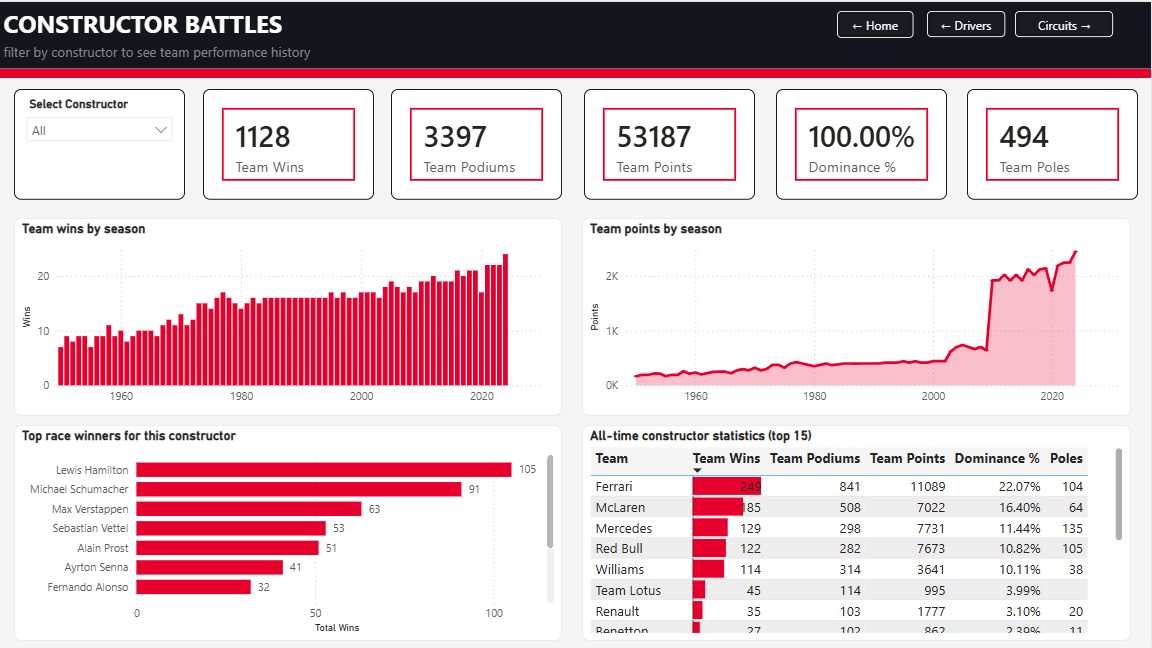

The dashboard page shown, as its layout file describes it:
{"tool":"powerbi","page":{"name":"Constructors","canvas":[1280,720],"ordinal":2},"visuals":[{"type":"shape","box":[0,74,1280,10],"z":0},{"type":"textbox","box":[0,0,1280,46.7],"z":1000},{"type":"textbox","box":[0,39.9,1280,34],"z":2000},{"type":"cardVisual","fields":{"Data":["_Measures.Total Wins"]},"box":[227,97,190,123],"z":3000},{"type":"cardVisual","fields":{"Data":["_Measures.Total Podiums"]},"box":[436,97,190,123],"z":4000},{"type":"cardVisual","fields":{"Data":["_Measures.Total Points"]},"box":[650,97,190,123],"z":5000},{"type":"cardVisual","fields":{"Data":["_Measures.Constructor Dominance %"]},"box":[863,97,190,123],"z":6000},{"type":"cardVisual","fields":{"Data":["_Measures.Total Pole Positions"]},"box":[1075,97,190,123],"z":7000},{"type":"actionButton","box":[1129.3,10.3,109.5,29.3],"z":8000},{"type":"actionButton","box":[1031,10,87,29],"z":9000},{"type":"actionButton","box":[931,10,85,30],"z":10000},{"type":"clusteredColumnChart","title":"Team wins by season","fields":{"Category":["races.year"],"Y":["_Measures.Total Wins"]},"box":[17,240,609,220],"z":11000},{"type":"slicer","fields":{"Values":["constructors.name"]},"box":[17,97,190,123],"z":12000},{"type":"areaChart","title":"Team points by season","fields":{"Category":["races.year"],"Y":["_Measures.Total Points"]},"box":[648,240,610,220],"z":13000},{"type":"clusteredBarChart","title":"Top race winners for this constructor","fields":{"Category":["drivers.DriverName"],"Y":["_Measures.Total Wins"]},"box":[17,470,609,240],"z":14000},{"type":"tableEx","title":"All-time constructor statistics (top 15)","fields":{"Values":["constructors.name","_Measures.Total Wins","_Measures.Total Podiums","_Measures.Total Points","_Measures.Constructor Dominance %","_Measures.Total Pole Positions"]},"box":[648,470,610,240],"z":15000}]}

Visuals, with their boxes in screenshot pixels (x1, y1, x2, y2), scaled from the page's 1280x720 canvas onto the 1152x648 screenshot:
shape: Rect(0, 67, 1151, 76)
textbox: Rect(0, 0, 1151, 42)
textbox: Rect(0, 36, 1151, 67)
cardVisual - _Measures.Total Wins: Rect(204, 87, 375, 198)
cardVisual - _Measures.Total Podiums: Rect(392, 87, 563, 198)
cardVisual - _Measures.Total Points: Rect(585, 87, 756, 198)
cardVisual - _Measures.Constructor Dominance %: Rect(777, 87, 948, 198)
cardVisual - _Measures.Total Pole Positions: Rect(968, 87, 1138, 198)
actionButton: Rect(1016, 9, 1115, 36)
actionButton: Rect(928, 9, 1006, 35)
actionButton: Rect(838, 9, 914, 36)
"Team wins by season" clusteredColumnChart: Rect(15, 216, 563, 414)
slicer - constructors.name: Rect(15, 87, 186, 198)
"Team points by season" areaChart: Rect(583, 216, 1132, 414)
"Top race winners for this constructor" clusteredBarChart: Rect(15, 423, 563, 639)
"All-time constructor statistics (top 15)" tableEx: Rect(583, 423, 1132, 639)
